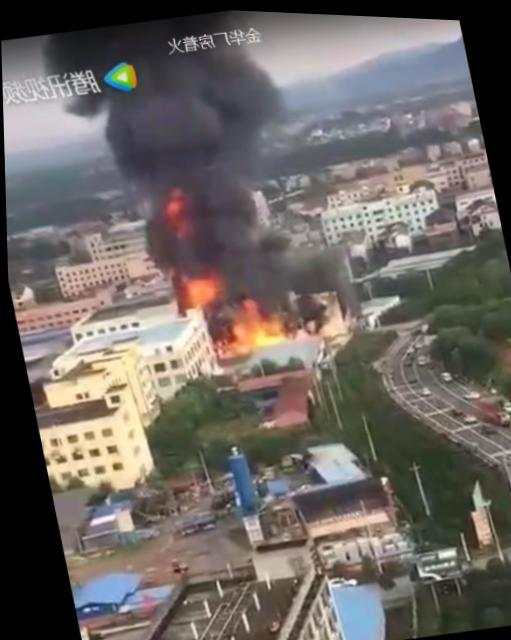fire: (182, 270, 218, 308), (239, 294, 263, 341), (253, 311, 283, 342), (224, 319, 249, 352)
